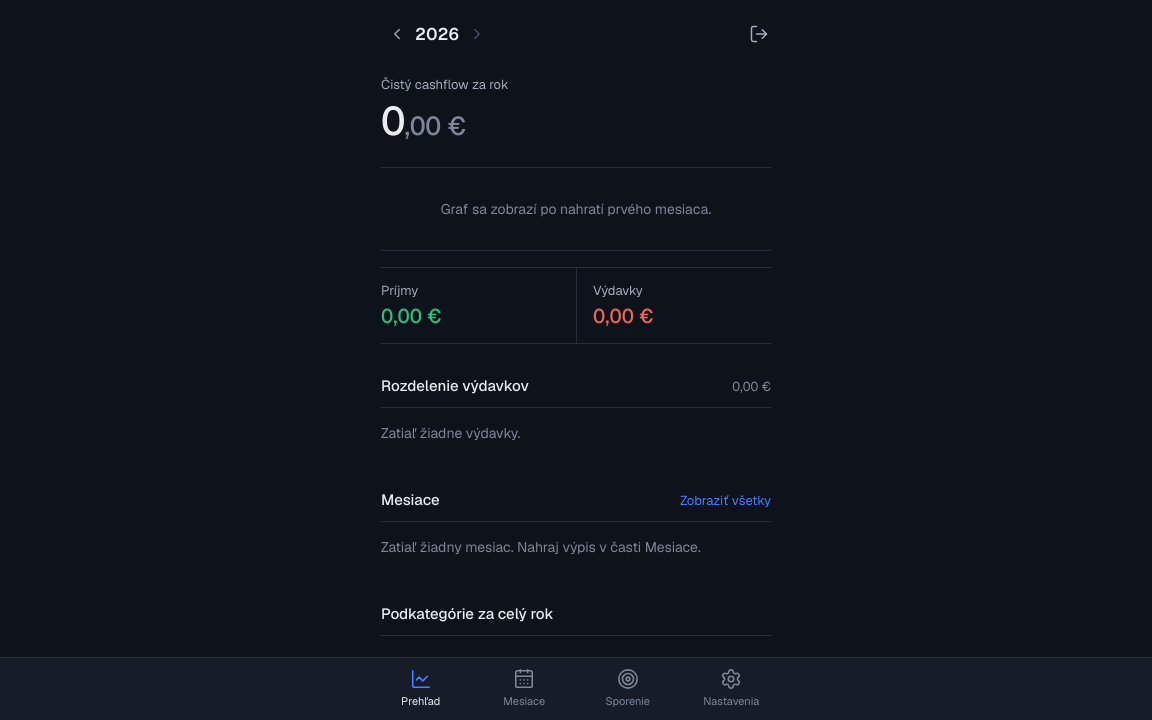
Test: s dátami sa uvítanie neukáže, návod je v Nastaveniach
This screenshot has width=1152, height=720.
Check: the text "Čistý cashflow za rok" is shown, box [381,76,509,93]
Click the button "Nastavenia" at (731, 689), box [680,658,783,719]
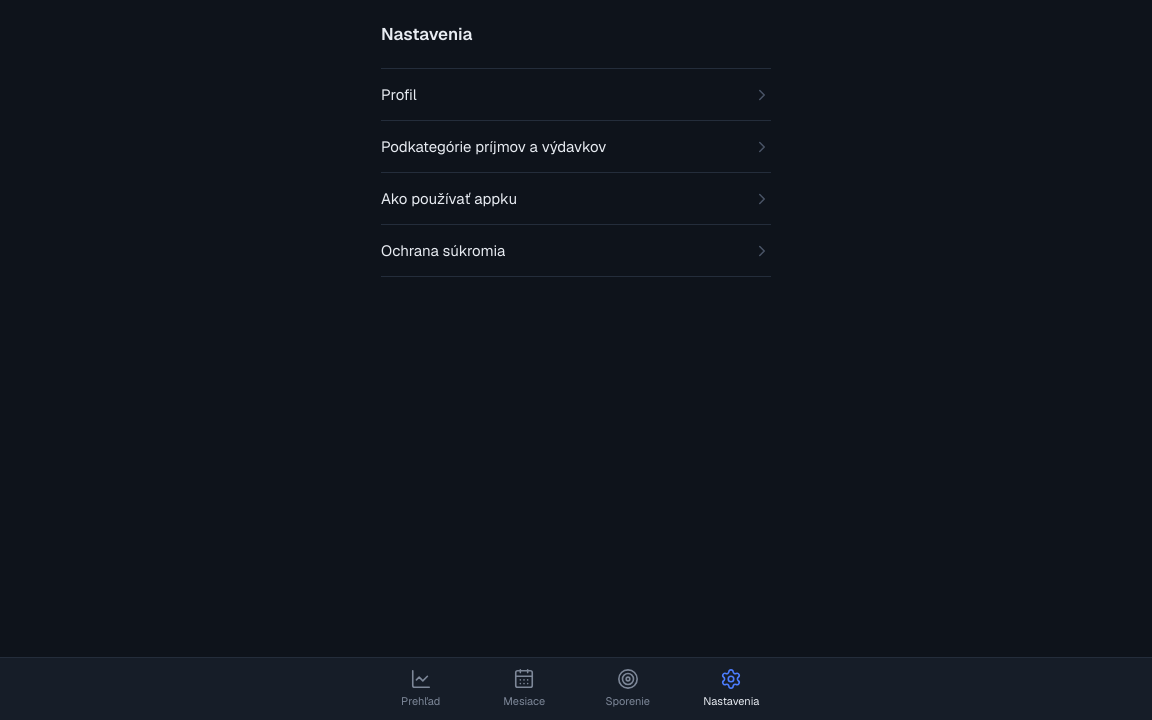
Click the button "Ako používať appku" at (449, 198), box [381,173,771,225]
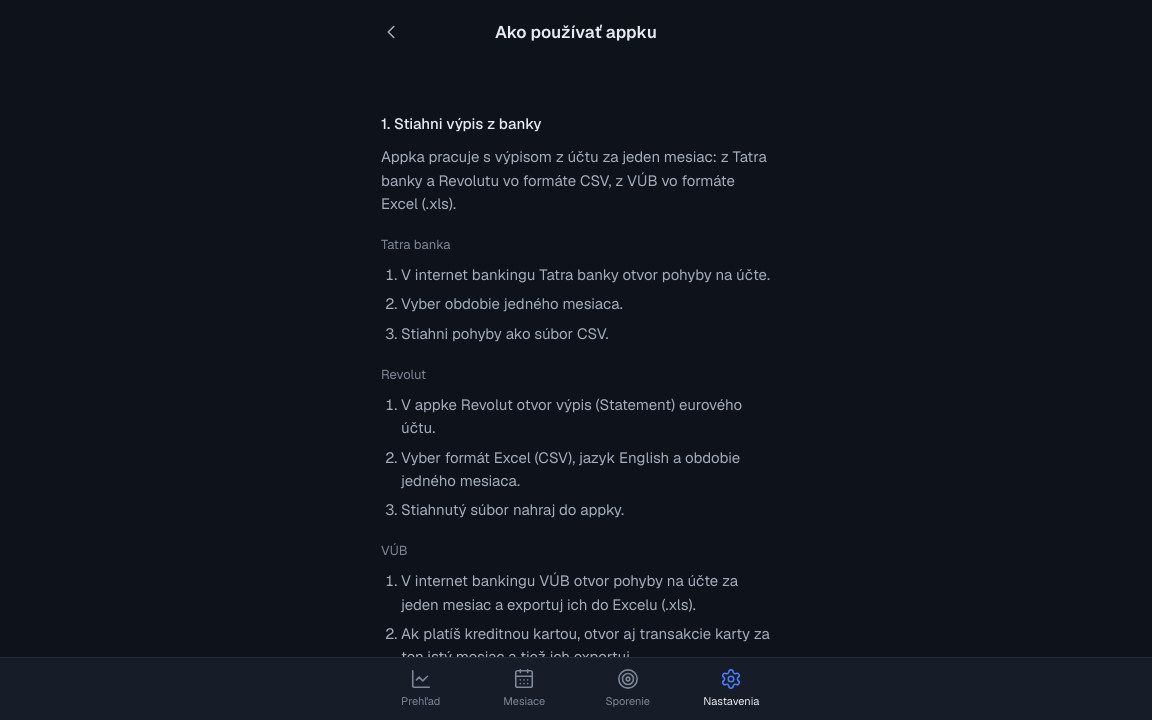
Check: the heading "Ako používať appku" is shown, box [495,21,657,43]
Click the button named "Späť" at (391, 32), box [369,10,413,54]
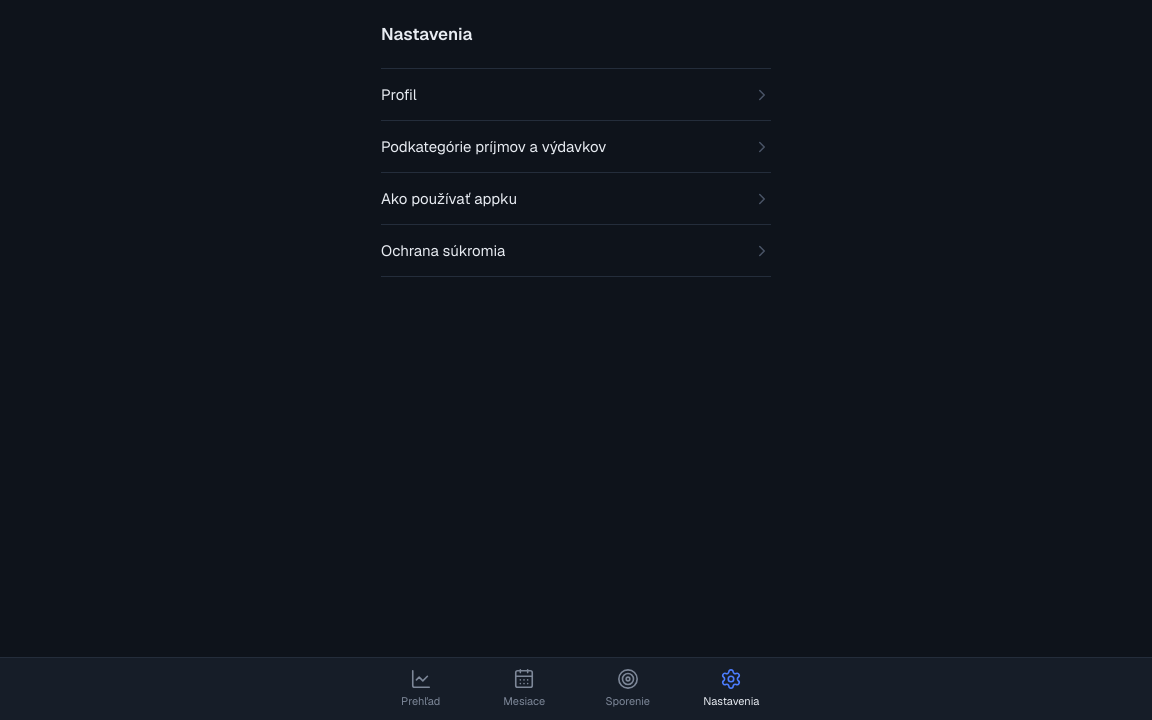
Check: the heading "Nastavenia" is shown, box [381,23,472,45]
